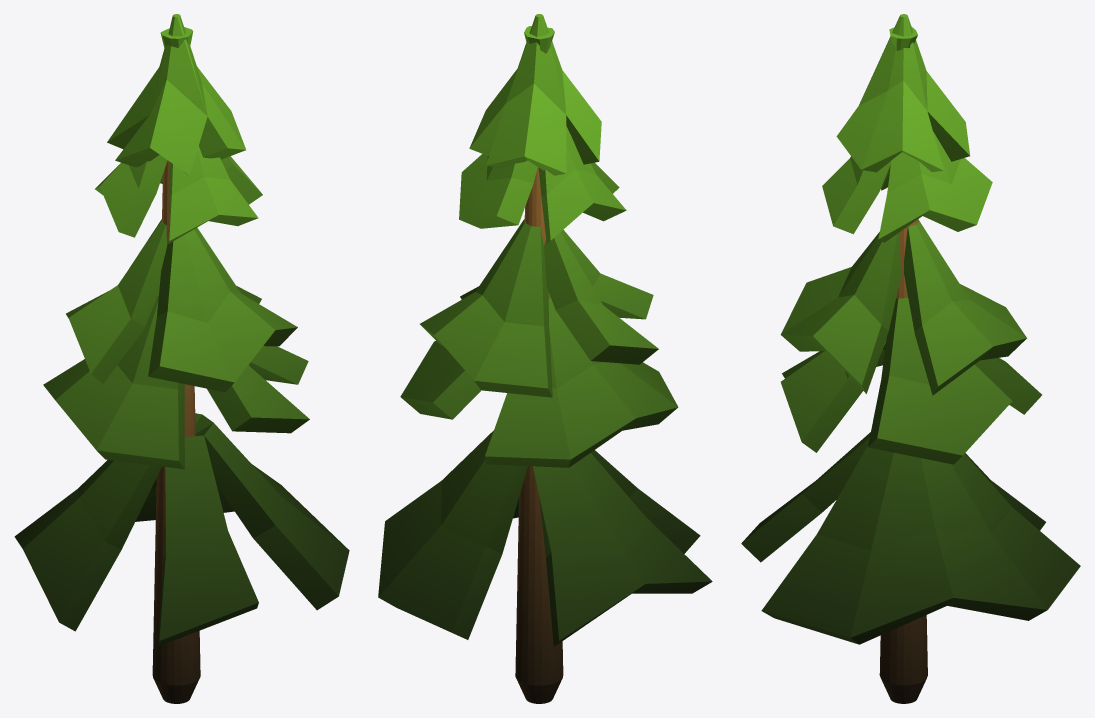
Rendered from PineTree_2.fbx.
The picture shows the model from 3 angles, left to right: view 1: azimuth 30°, elevation 25°; view 2: azimuth 150°, elevation 25°; view 3: azimuth 270°, elevation 25°; orthographic projection.
Parts seen in each view (by area): view 1: PineTree_3; view 2: PineTree_3; view 3: PineTree_3.
Part boxes in pixels (left/top/right/bottom): PineTree_3: left=14, top=14, right=349, bottom=703; PineTree_3: left=378, top=14, right=712, bottom=703; PineTree_3: left=741, top=14, right=1080, bottom=703.
Size of the model in its own units: 268 by 600 by 271.
